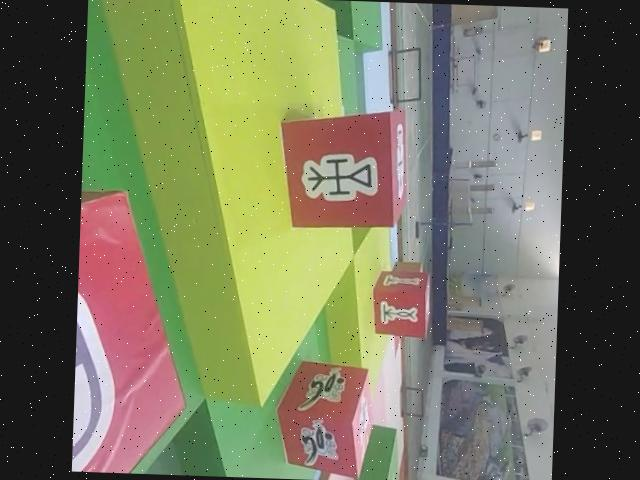R1: (272, 357, 378, 479)
R2 Fake: (72, 186, 199, 476)
R2 Real: (275, 103, 415, 234), (369, 268, 434, 340)
